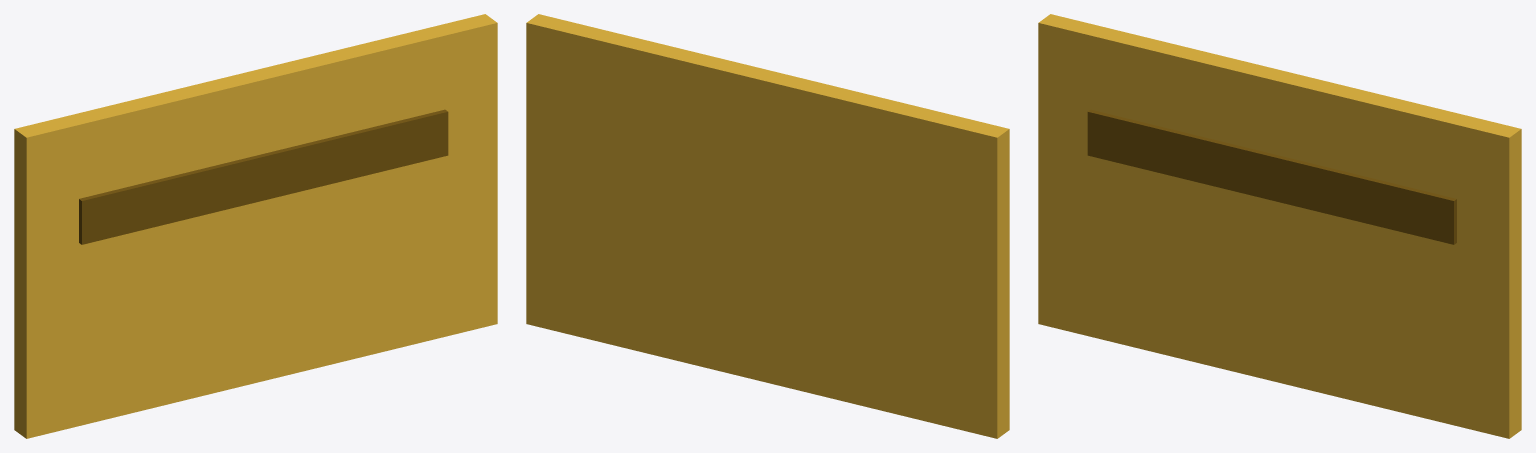
File: gift_card.glb
3 views of the same model, side by side, from view 1: azimuth 30°, elevation 25°; view 2: azimuth 150°, elevation 25°; view 3: azimuth 330°, elevation 25° (orthographic).
Visible parts, largest first — view 1: gift_card; view 2: gift_card; view 3: gift_card.
Boxes of the visible parts, x1,y1,x2,y2 form: gift_card: (14,14,497,438); gift_card: (526,14,1009,438); gift_card: (1038,14,1521,438).
Bounding box in the file's own units: 0.09 × 0.055 × 0.005.
